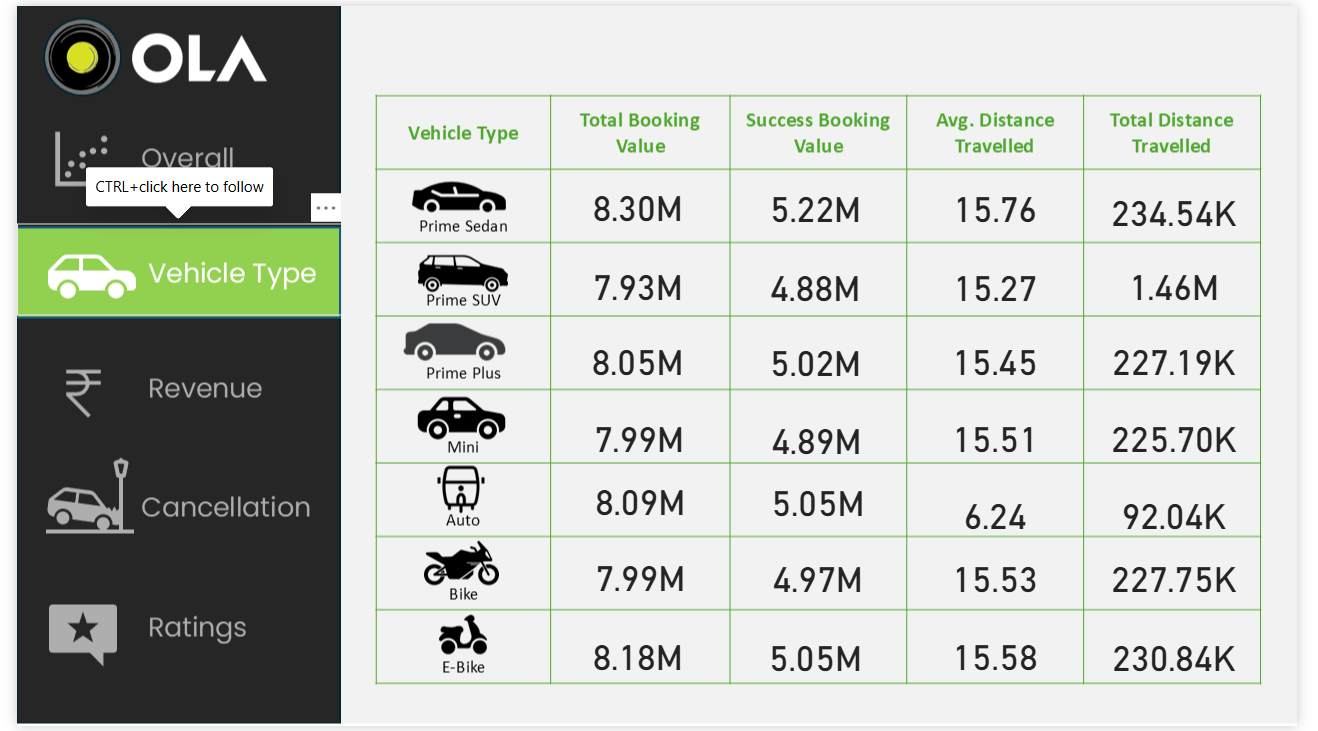

The page's visual inventory and layout, read from the dashboard file:
{"tool":"powerbi","page":{"name":"Vehicle Type","canvas":[1280,720],"ordinal":1},"visuals":[{"type":"actionButton","box":[0,217.2,324.5,92.9],"z":0},{"type":"actionButton","box":[0,446.4,324.5,92.9],"z":1000},{"type":"actionButton","box":[1.2,587.5,324.5,92.9],"z":2000},{"type":"actionButton","box":[1.2,339,324.5,92.9],"z":3000},{"type":"actionButton","box":[0,112.2,324.5,92.9],"z":4000},{"type":"card","fields":{"Values":["Sum(Bookings-100000-Rows - July.Booking_Value)"]},"box":[536.2,168.8,168.8,62.5],"z":5000},{"type":"card","fields":{"Values":["Sum(Bookings-100000-Rows - July.Booking_Value)"]},"box":[536.2,247.5,168.8,62.5],"z":6000},{"type":"card","fields":{"Values":["Sum(Bookings-100000-Rows - July.Booking_Value)"]},"box":[536.2,322.5,168.8,62.5],"z":7000},{"type":"card","fields":{"Values":["Sum(Bookings-100000-Rows - July.Booking_Value)"]},"box":[537.5,400,168.8,62.5],"z":8000},{"type":"card","fields":{"Values":["Sum(Bookings-100000-Rows - July.Booking_Value)"]},"box":[538.8,462.5,168.8,62.5],"z":9000},{"type":"card","fields":{"Values":["Sum(Bookings-100000-Rows - July.Booking_Value)"]},"box":[538.8,538.8,168.8,62.5],"z":10000},{"type":"card","fields":{"Values":["Sum(Bookings-100000-Rows - July.Booking_Value)"]},"box":[536.2,617.5,168.8,62.5],"z":11000},{"type":"card","fields":{"Values":["Sum(Bookings-100000-Rows - July.Booking_Value)"]},"box":[713.2,169.7,168.8,62.5],"z":12000},{"type":"card","fields":{"Values":["Sum(Bookings-100000-Rows - July.Booking_Value)"]},"box":[713.2,248.5,168.8,62.5],"z":13000},{"type":"card","fields":{"Values":["Sum(Bookings-100000-Rows - July.Booking_Value)"]},"box":[713.2,323.5,168.8,62.5],"z":14000},{"type":"card","fields":{"Values":["Sum(Bookings-100000-Rows - July.Booking_Value)"]},"box":[714.5,401,168.8,62.5],"z":15000},{"type":"card","fields":{"Values":["Sum(Bookings-100000-Rows - July.Booking_Value)"]},"box":[715.7,463.5,168.8,62.5],"z":16000},{"type":"card","fields":{"Values":["Sum(Bookings-100000-Rows - July.Booking_Value)"]},"box":[715.7,539.7,168.8,62.5],"z":17000},{"type":"card","fields":{"Values":["Sum(Bookings-100000-Rows - July.Booking_Value)"]},"box":[713.2,618.5,168.8,62.5],"z":18000},{"type":"card","fields":{"Values":["Avg(Bookings-100000-Rows - July.Ride_Distance)"]},"box":[893.8,170,168.8,62.5],"z":19000},{"type":"card","fields":{"Values":["Avg(Bookings-100000-Rows - July.Ride_Distance)"]},"box":[893.8,248.8,168.8,62.5],"z":20000},{"type":"card","fields":{"Values":["Avg(Bookings-100000-Rows - July.Ride_Distance)"]},"box":[893.8,322.5,168.8,62.5],"z":21000},{"type":"card","fields":{"Values":["Avg(Bookings-100000-Rows - July.Ride_Distance)"]},"box":[893.8,400,168.8,62.5],"z":22000},{"type":"card","fields":{"Values":["Avg(Bookings-100000-Rows - July.Ride_Distance)"]},"box":[893.8,476.2,168.8,62.5],"z":23000},{"type":"card","fields":{"Values":["Avg(Bookings-100000-Rows - July.Ride_Distance)"]},"box":[893.8,540,168.8,62.5],"z":24000},{"type":"card","fields":{"Values":["Avg(Bookings-100000-Rows - July.Ride_Distance)"]},"box":[893.8,617.5,168.8,62.5],"z":25000},{"type":"card","fields":{"Values":["Sum(Bookings-100000-Rows - July.Ride_Distance)"]},"box":[1072.5,173.8,168.8,62.5],"z":26000},{"type":"card","fields":{"Values":["Sum(Bookings-100000-Rows - July.Ride_Distance)"]},"box":[1072.5,247.5,168.8,62.5],"z":27000},{"type":"card","fields":{"Values":["Sum(Bookings-100000-Rows - July.Ride_Distance)"]},"box":[1072.5,322.5,168.8,62.5],"z":28000},{"type":"card","fields":{"Values":["Sum(Bookings-100000-Rows - July.Ride_Distance)"]},"box":[1072.5,400,168.8,62.5],"z":29000},{"type":"card","fields":{"Values":["Sum(Bookings-100000-Rows - July.Ride_Distance)"]},"box":[1072.5,476.2,168.8,62.5],"z":30000},{"type":"card","fields":{"Values":["Sum(Bookings-100000-Rows - July.Ride_Distance)"]},"box":[1072.5,540,168.8,62.5],"z":31000},{"type":"card","fields":{"Values":["Sum(Bookings-100000-Rows - July.Ride_Distance)"]},"box":[1072.5,618.8,168.8,62.5],"z":32000}]}

Visuals, with their boxes on the page's 1280x720 design canvas (x1, y1, x2, y2). These are canvas units, not pixel positions in the 1318x731 screenshot, which may show the page scaled, cropped or inside an application window:
actionButton: box(0, 217, 324, 310)
actionButton: box(0, 446, 324, 539)
actionButton: box(1, 588, 326, 680)
actionButton: box(1, 339, 326, 432)
actionButton: box(0, 112, 324, 205)
card - Sum(Bookings-100000-Rows - July.Booking_Value): box(536, 169, 705, 231)
card - Sum(Bookings-100000-Rows - July.Booking_Value): box(536, 248, 705, 310)
card - Sum(Bookings-100000-Rows - July.Booking_Value): box(536, 322, 705, 385)
card - Sum(Bookings-100000-Rows - July.Booking_Value): box(538, 400, 706, 462)
card - Sum(Bookings-100000-Rows - July.Booking_Value): box(539, 462, 708, 525)
card - Sum(Bookings-100000-Rows - July.Booking_Value): box(539, 539, 708, 601)
card - Sum(Bookings-100000-Rows - July.Booking_Value): box(536, 618, 705, 680)
card - Sum(Bookings-100000-Rows - July.Booking_Value): box(713, 170, 882, 232)
card - Sum(Bookings-100000-Rows - July.Booking_Value): box(713, 248, 882, 311)
card - Sum(Bookings-100000-Rows - July.Booking_Value): box(713, 324, 882, 386)
card - Sum(Bookings-100000-Rows - July.Booking_Value): box(714, 401, 883, 464)
card - Sum(Bookings-100000-Rows - July.Booking_Value): box(716, 464, 884, 526)
card - Sum(Bookings-100000-Rows - July.Booking_Value): box(716, 540, 884, 602)
card - Sum(Bookings-100000-Rows - July.Booking_Value): box(713, 618, 882, 681)
card - Avg(Bookings-100000-Rows - July.Ride_Distance): box(894, 170, 1063, 232)
card - Avg(Bookings-100000-Rows - July.Ride_Distance): box(894, 249, 1063, 311)
card - Avg(Bookings-100000-Rows - July.Ride_Distance): box(894, 322, 1063, 385)
card - Avg(Bookings-100000-Rows - July.Ride_Distance): box(894, 400, 1063, 462)
card - Avg(Bookings-100000-Rows - July.Ride_Distance): box(894, 476, 1063, 539)
card - Avg(Bookings-100000-Rows - July.Ride_Distance): box(894, 540, 1063, 602)
card - Avg(Bookings-100000-Rows - July.Ride_Distance): box(894, 618, 1063, 680)
card - Sum(Bookings-100000-Rows - July.Ride_Distance): box(1072, 174, 1241, 236)
card - Sum(Bookings-100000-Rows - July.Ride_Distance): box(1072, 248, 1241, 310)
card - Sum(Bookings-100000-Rows - July.Ride_Distance): box(1072, 322, 1241, 385)
card - Sum(Bookings-100000-Rows - July.Ride_Distance): box(1072, 400, 1241, 462)
card - Sum(Bookings-100000-Rows - July.Ride_Distance): box(1072, 476, 1241, 539)
card - Sum(Bookings-100000-Rows - July.Ride_Distance): box(1072, 540, 1241, 602)
card - Sum(Bookings-100000-Rows - July.Ride_Distance): box(1072, 619, 1241, 681)
